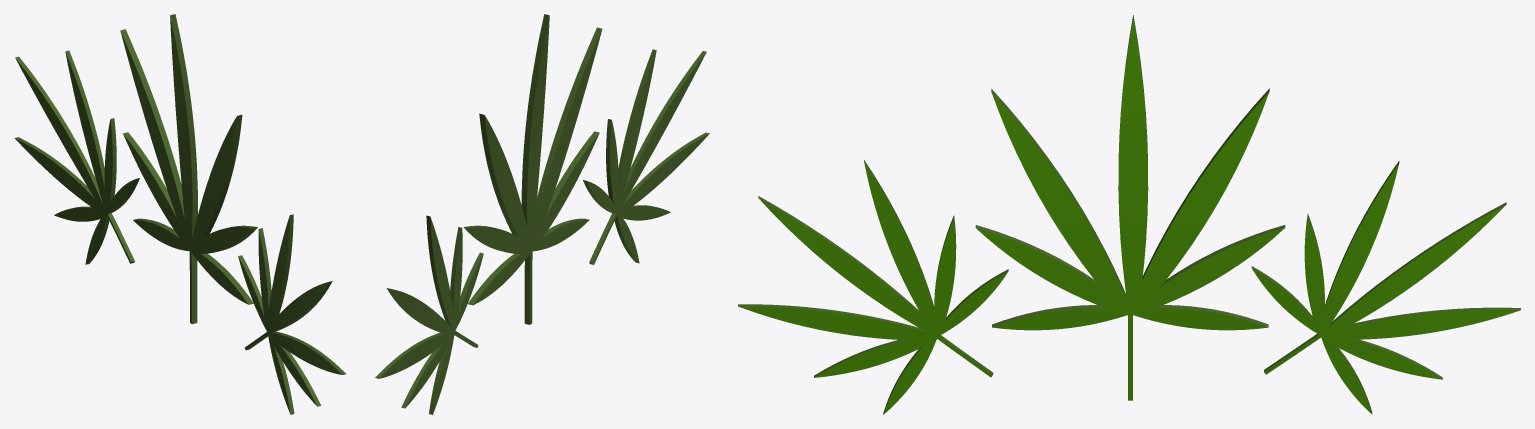
Rendered from weed.obj.
The picture shows the model from 3 angles, left to right: view 1: azimuth 30°, elevation 25°; view 2: azimuth 150°, elevation 25°; view 3: azimuth 270°, elevation 25°; orthographic projection. The views are drawn at different scales.
Visible parts, largest first — view 1: Mesh1 Group1 Untitled_2_1 Model, Mesh5 Group3 Untitled_2_1 Model, Mesh3 Group2 Untitled_2_1 Model; view 2: Mesh1 Group1 Untitled_2_1 Model, Mesh3 Group2 Untitled_2_1 Model, Mesh5 Group3 Untitled_2_1 Model; view 3: Mesh1 Group1 Untitled_2_1 Model, Mesh3 Group2 Untitled_2_1 Model, Mesh5 Group3 Untitled_2_1 Model.
Part boxes in pixels (box(x1,y1,x2,y2)): Mesh1 Group1 Untitled_2_1 Model: box(120, 14, 257, 324); Mesh5 Group3 Untitled_2_1 Model: box(14, 50, 139, 264); Mesh3 Group2 Untitled_2_1 Model: box(238, 214, 346, 414); Mesh1 Group1 Untitled_2_1 Model: box(463, 14, 602, 324); Mesh3 Group2 Untitled_2_1 Model: box(583, 49, 709, 264); Mesh5 Group3 Untitled_2_1 Model: box(375, 215, 483, 414); Mesh1 Group1 Untitled_2_1 Model: box(975, 15, 1285, 400); Mesh3 Group2 Untitled_2_1 Model: box(738, 160, 1008, 414); Mesh5 Group3 Untitled_2_1 Model: box(1251, 161, 1520, 414).
Bounding box in the file's own units: 9.32 × 116 × 211.
